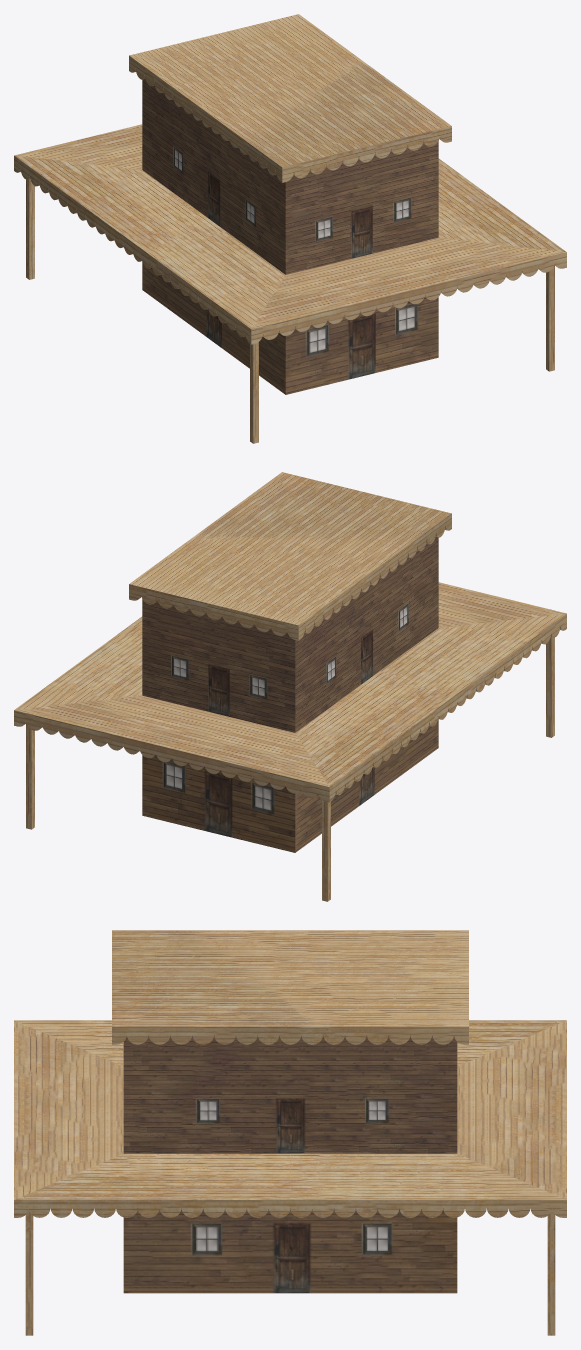
Rendered from casa.fbx.
3 renders of one model, top to bottom at view 1: azimuth 30°, elevation 25°; view 2: azimuth 150°, elevation 25°; view 3: azimuth 270°, elevation 25°, orthographic. The views are drawn at different scales.
Parts seen in each view (by area): view 1: CasaMesh; view 2: CasaMesh; view 3: CasaMesh.
Boxes of the visible parts, x1,y1,x2,y2 form: CasaMesh: [14, 14, 566, 443]; CasaMesh: [14, 472, 566, 901]; CasaMesh: [14, 930, 566, 1335].
Size of the model in its own units: 11.77 by 8.3 by 15.33.
1 material, 1 textured.
